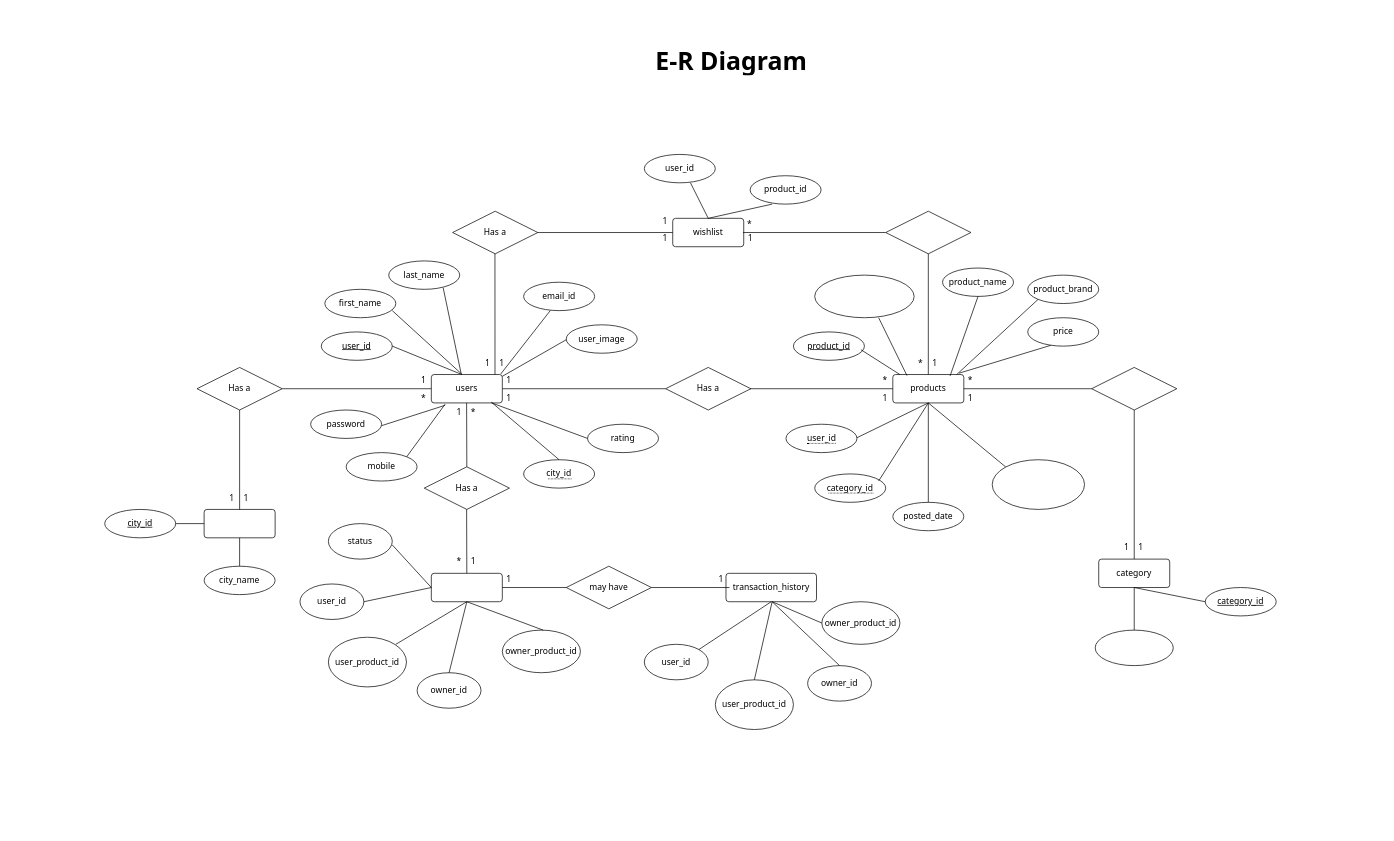
Image size: 1394x841. Some labels were removed from this diagram. The shapes that lost their labels are listed below. From the top down, each one's centre as x and y in pixels, then its label:
point 928,232: can have
point 864,296: product_description
point 1134,388: Has
point 1038,484: first_image, second_image, third image
point 239,523: city
point 466,587: transaction
point 1133,647: category_name
